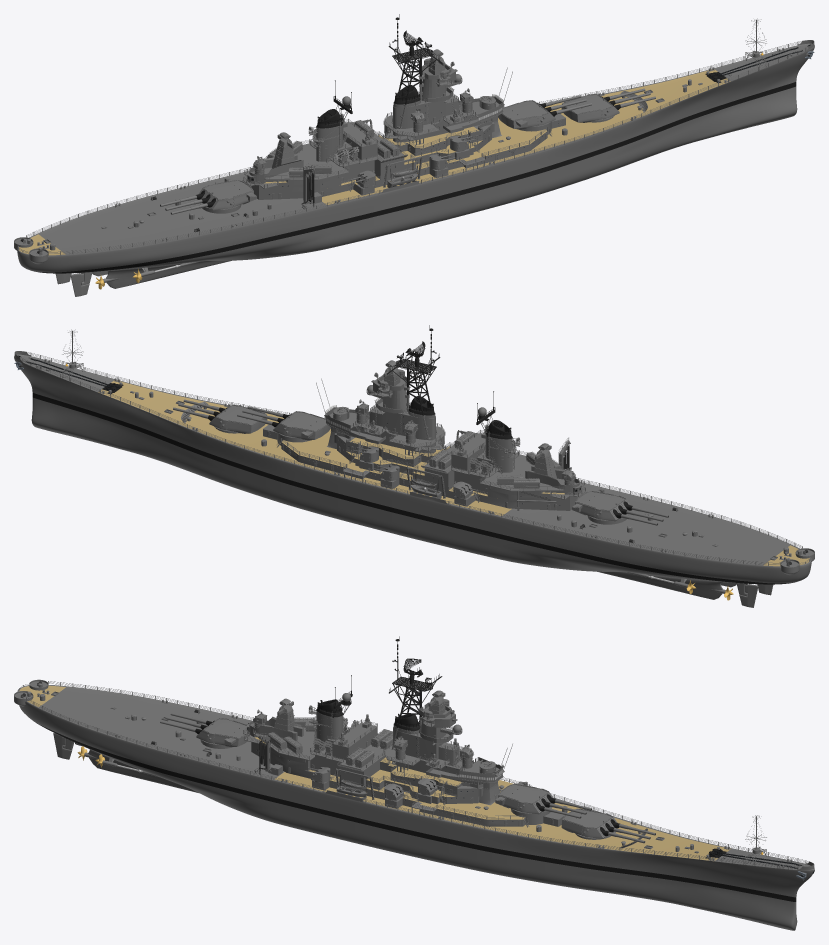
Rendered from USS Missouri.fbx.
The picture shows the model from 3 angles, top to bottom: view 1: azimuth 30°, elevation 25°; view 2: azimuth 150°, elevation 25°; view 3: azimuth 330°, elevation 25°; orthographic projection.
Parts seen in each view (by area): view 1: Empty_Mesh, Empty_Mesh_5, Empty_Mesh_3, Empty_Mesh_1; view 2: Empty_Mesh, Empty_Mesh_5, Empty_Mesh_3, Empty_Mesh_1; view 3: Empty_Mesh, Empty_Mesh_3, Empty_Mesh_1, Empty_Mesh_5.
Boxes of the visible parts, x1,y1,x2,y2 form: Empty_Mesh: (14,14,814,296); Empty_Mesh_5: (196,177,256,213); Empty_Mesh_3: (498,100,556,134); Empty_Mesh_1: (561,93,620,122); Empty_Mesh: (14,325,814,607); Empty_Mesh_5: (572,488,632,524); Empty_Mesh_3: (272,411,330,445); Empty_Mesh_1: (208,404,267,433); Empty_Mesh: (14,636,814,930); Empty_Mesh_3: (495,781,555,824); Empty_Mesh_1: (561,808,619,839); Empty_Mesh_5: (195,718,250,748).
Bounding box in the file's own units: 26504 × 6358 × 3276.
